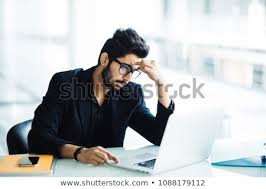Indian_Male: (97, 42, 146, 90)
